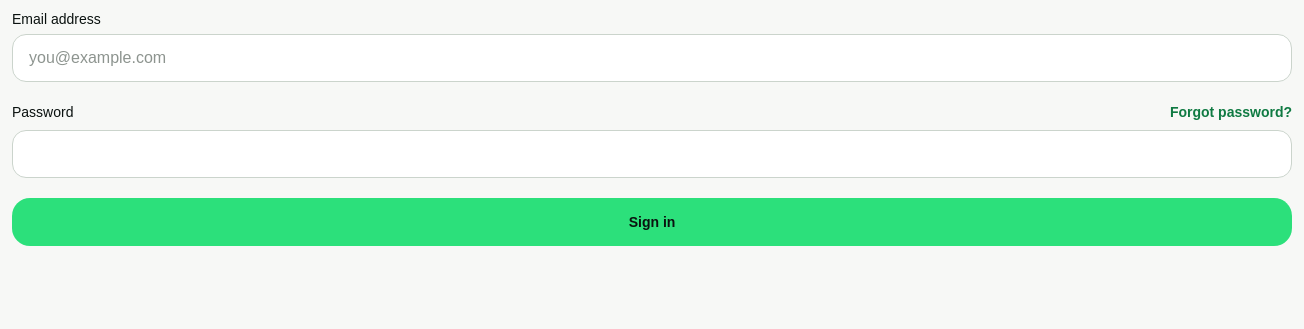
Test: auth forms › renders form-level security feedback instead of an unhighlighted-field message
Type "fan@example.com" into the field labelled "Email address".
click(652, 58); type("fan@example.com")  # box [12,34,1292,82]
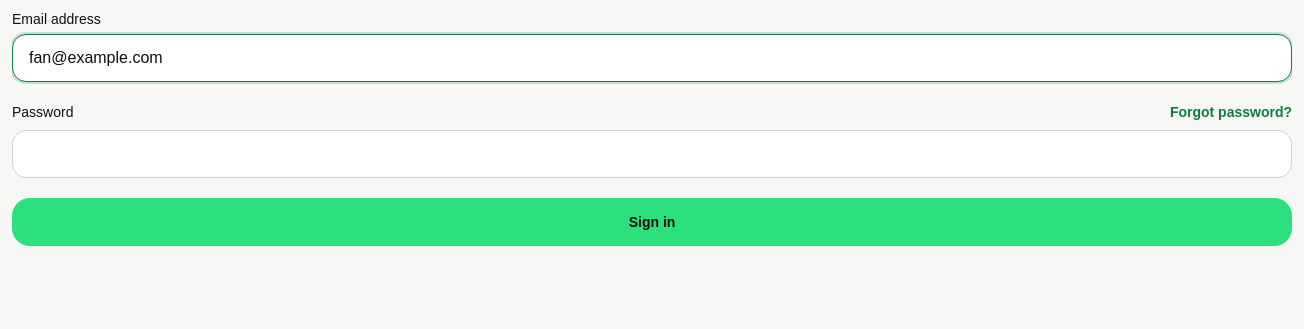
Type "matchday-strong" into the password field labelled "Password".
click(652, 154); type("matchday-strong")  # box [12,130,1292,178]
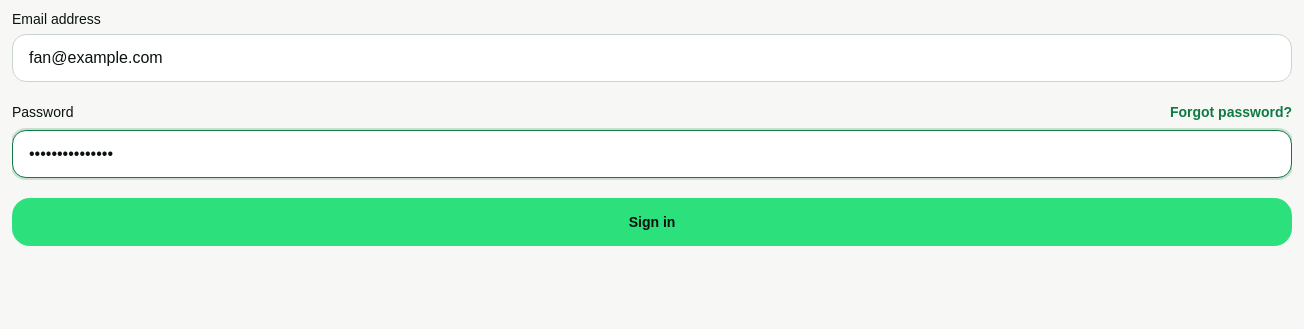
Click the button "Sign in".
click(652, 222)  # box [12,198,1292,246]
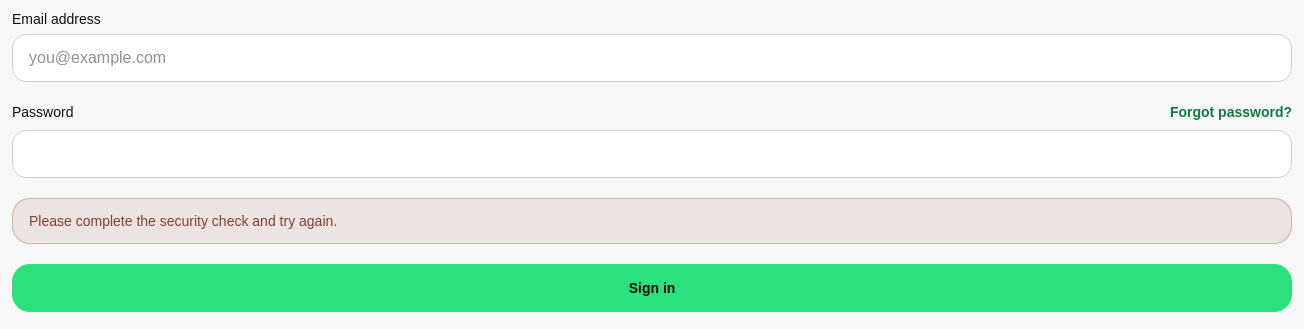
Expected: the message reads "Please complete the security check and try again.", [29,213,337,229]
